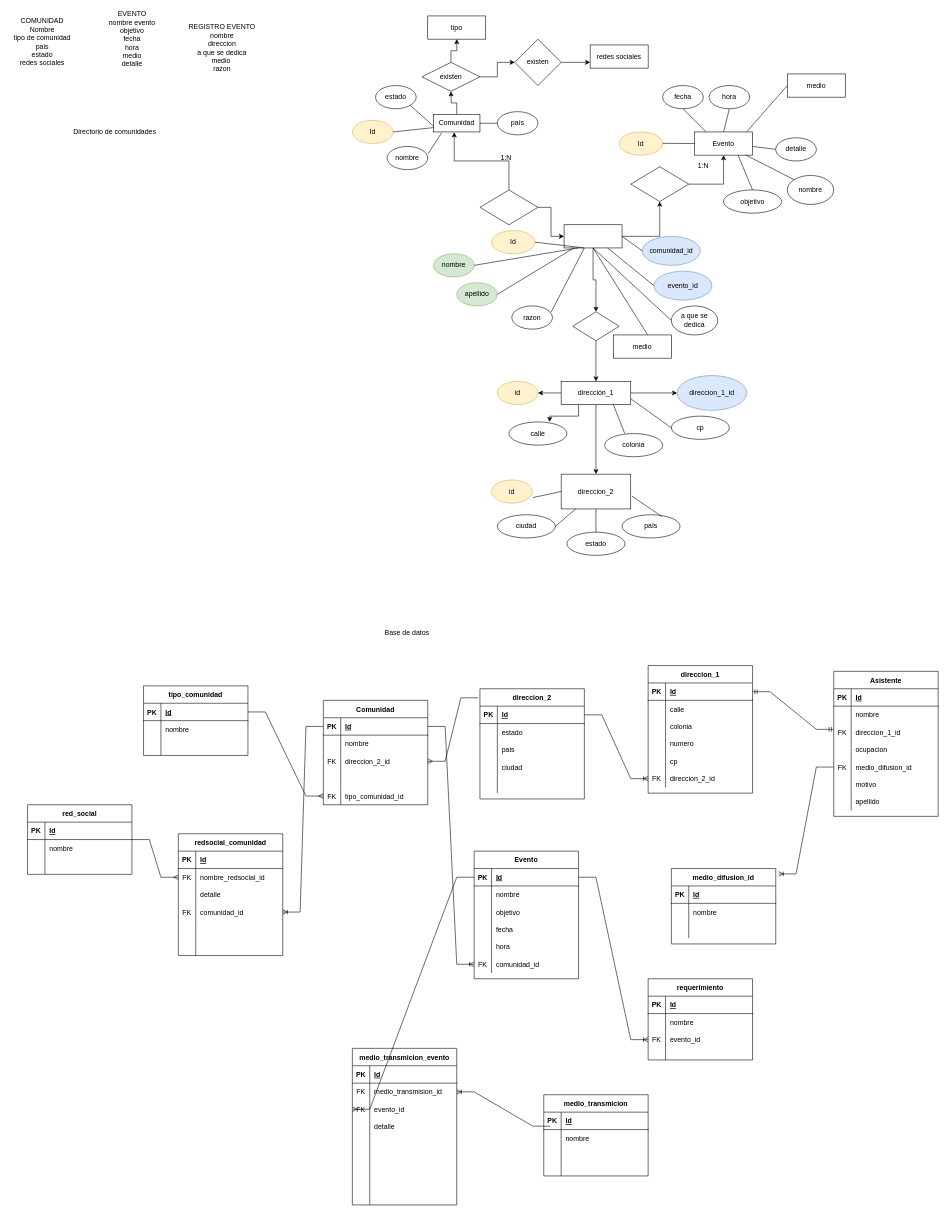
The diagram is 948 pixels wide and 1215 high, and some of its shapes have lost their labels. The centre of each missing label's shape, as x and y in pixels:
"asiste" belongs at (659,184).
"Asistentes" belongs at (592,236).
"realiza" belongs at (508,207).
"tener" belongs at (595,326).
